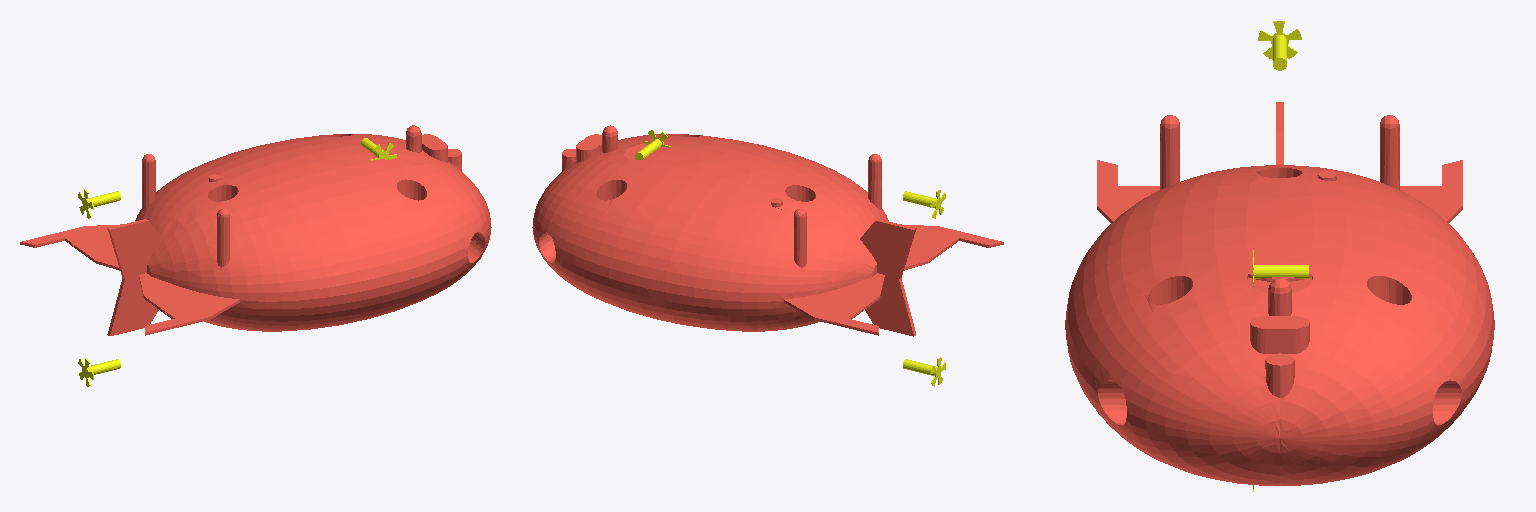
The robot description file, URDF, robot "auv_model":
<?xml version="1.0" encoding="utf-8"?>
<!-- This URDF was automatically created by SolidWorks to URDF Exporter! Originally created by [author] ([email redacted]) 
     Commit Version: 1.6.0-1-g15f4949  Build Version: 1.6.7594.29634
     For more information, please see http://wiki.ros.org/sw_urdf_exporter -->
<robot
  name="auv_model">
  <link
    name="base_link">
    <inertial>
      <origin
        xyz="0.066455 4.5644E-06 0.0008838"
        rpy="0 0 0" />
      <mass
        value="580.87" />
      <inertia
        ixx="53.088"
        ixy="0.0009714"
        ixz="-0.020046"
        iyy="81.713"
        iyz="-0.0006525"
        izz="111.33" />
    </inertial>
    <visual>
      <origin
        xyz="0 0 0"
        rpy="0 0 0" />
      <geometry>
        <mesh
          filename="package://auv_model/meshes/base_link.STL" />
      </geometry>
      <material
        name="">
        <color
          rgba="1 0.42745 0.37255 1" />
      </material>
    </visual>
    <collision>
      <origin
        xyz="0 0 0"
        rpy="0 0 0" />
      <geometry>
        <mesh
          filename="package://auv_model/meshes/base_link.STL" />
      </geometry>
    </collision>
  </link>
  <link
    name="link1">
    <inertial>
      <origin
        xyz="0 -5.55111512312578E-17 0.00582005576577271"
        rpy="0 0 0" />
      <mass
        value="0.219082454356588" />
      <inertia
        ixx="0.000553877896632537"
        ixy="2.48186495508586E-20"
        ixz="-2.28870535735766E-19"
        iyy="0.000553877896632537"
        iyz="-2.06795153138257E-20"
        izz="8.46424691524212E-05" />
    </inertial>
    <visual>
      <origin
        xyz="0 0 0"
        rpy="0 0 0" />
      <geometry>
        <mesh
          filename="package://auv_model/meshes/link1.STL" />
      </geometry>
      <material
        name="">
        <color
          rgba="0.972549019607843 1 0.152941176470588 1" />
      </material>
    </visual>
    <collision>
      <origin
        xyz="0 0 0"
        rpy="0 0 0" />
      <geometry>
        <mesh
          filename="package://auv_model/meshes/link1.STL" />
      </geometry>
    </collision>
  </link>
  <joint
    name="1#thruster"
    type="continuous">
    <origin
      xyz="0.38014 0 -0.299"
      rpy="1.5708 0 0" />
    <parent
      link="base_link" />
    <child
      link="link1" />
    <axis
      xyz="0 0 1" />
    <limit
      lower="0"
      upper="6.28"
      effort="0"
      velocity="0" />
  </joint>
  <link
    name="link2">
    <inertial>
      <origin
        xyz="-5.55111512312578E-17 0 0.0058200557657727"
        rpy="0 0 0" />
      <mass
        value="0.219082454356588" />
      <inertia
        ixx="0.000553877896632537"
        ixy="3.90293539805782E-20"
        ixz="-2.0105658763867E-19"
        iyy="0.000553877896632537"
        iyz="-5.29395592033938E-20"
        izz="8.46424691524212E-05" />
    </inertial>
    <visual>
      <origin
        xyz="0 0 0"
        rpy="0 0 0" />
      <geometry>
        <mesh
          filename="package://auv_model/meshes/link2.STL" />
      </geometry>
      <material
        name="">
        <color
          rgba="0.972549019607843 1 0.152941176470588 1" />
      </material>
    </visual>
    <collision>
      <origin
        xyz="0 0 0"
        rpy="0 0 0" />
      <geometry>
        <mesh
          filename="package://auv_model/meshes/link2.STL" />
      </geometry>
    </collision>
  </link>
  <joint
    name="2#thruster"
    type="continuous">
    <origin
      xyz="0.38014 0 0.299"
      rpy="1.5708 0 0" />
    <parent
      link="base_link" />
    <child
      link="link2" />
    <axis
      xyz="0 0 1" />
    <limit
      lower="0"
      upper="6.28"
      effort="0"
      velocity="0" />
  </joint>
  <link
    name="link3">
    <inertial>
      <origin
        xyz="6.1523008909603E-13 -2.62841137743663E-12 0.00582005576576341"
        rpy="0 0 0" />
      <mass
        value="0.219082454356588" />
      <inertia
        ixx="0.000553877896632537"
        ixy="-5.42101086242752E-20"
        ixz="-1.96942075992639E-19"
        iyy="0.000553877896632536"
        iyz="4.10774357144031E-20"
        izz="8.4642469152421E-05" />
    </inertial>
    <visual>
      <origin
        xyz="0 0 0"
        rpy="0 0 0" />
      <geometry>
        <mesh
          filename="package://auv_model/meshes/link3.STL" />
      </geometry>
      <material
        name="">
        <color
          rgba="0.972549019607843 1 0.152941176470588 1" />
      </material>
    </visual>
    <collision>
      <origin
        xyz="0 0 0"
        rpy="0 0 0" />
      <geometry>
        <mesh
          filename="package://auv_model/meshes/link3.STL" />
      </geometry>
    </collision>
  </link>
  <joint
    name="3#thruster"
    type="continuous">
    <origin
      xyz="-0.32186 0 0"
      rpy="1.5708 0.22997 0" />
    <parent
      link="base_link" />
    <child
      link="link3" />
    <axis
      xyz="0 0 1" />
    <limit
      lower="0"
      upper="6.28"
      effort="0"
      velocity="0" />
  </joint>
  <link
    name="link4">
    <inertial>
      <origin
        xyz="-1.99840144432528E-15 1.96370697480575E-15 0.000820055765243202"
        rpy="0 0 0" />
      <mass
        value="0.219082454356588" />
      <inertia
        ixx="0.000553877896632537"
        ixy="1.21972744404619E-19"
        ixz="1.10905631225746E-15"
        iyy="0.000553877896632537"
        iyz="-1.00842756476344E-16"
        izz="8.46424691524214E-05" />
    </inertial>
    <visual>
      <origin
        xyz="0 0 0"
        rpy="0 0 0" />
      <geometry>
        <mesh
          filename="package://auv_model/meshes/link4.STL" />
      </geometry>
      <material
        name="">
        <color
          rgba="0.972549019607843 1 0.152941176470588 1" />
      </material>
    </visual>
    <collision>
      <origin
        xyz="0 0 0"
        rpy="0 0 0" />
      <geometry>
        <mesh
          filename="package://auv_model/meshes/link4.STL" />
      </geometry>
    </collision>
  </link>
  <joint
    name="4#thruster"
    type="continuous">
    <origin
      xyz="0.58765 0 0"
      rpy="0 0 0.090567" />
    <parent
      link="base_link" />
    <child
      link="link4" />
    <axis
      xyz="0 0 1" />
    <limit
      lower="0"
      upper="6.28"
      effort="0"
      velocity="0" />
  </joint>
  <link
    name="link5">
    <inertial>
      <origin
        xyz="3.33066907387547E-16 -1.85296222809939E-13 0.0858200557661546"
        rpy="0 0 0" />
      <mass
        value="0.219082454356588" />
      <inertia
        ixx="0.000553877896632534"
        ixy="0"
        ixz="-1.9879085977734E-18"
        iyy="0.000553877896632534"
        iyz="1.01373530375499E-15"
        izz="8.46424691524206E-05" />
    </inertial>
    <visual>
      <origin
        xyz="0 0 0"
        rpy="0 0 0" />
      <geometry>
        <mesh
          filename="package://auv_model/meshes/link5.STL" />
      </geometry>
      <material
        name="">
        <color
          rgba="0.972549019607843 1 0.152941176470588 1" />
      </material>
    </visual>
    <collision>
      <origin
        xyz="0 0 0"
        rpy="0 0 0" />
      <geometry>
        <mesh
          filename="package://auv_model/meshes/link5.STL" />
      </geometry>
    </collision>
  </link>
  <joint
    name="5#thruster"
    type="continuous">
    <origin
      xyz="-0.80686 0 -0.372"
      rpy="1.5708 -0.42763 -1.5708" />
    <parent
      link="base_link" />
    <child
      link="link5" />
    <axis
      xyz="0 0 1" />
    <limit
      lower="0"
      upper="6.28"
      effort="0"
      velocity="0" />
  </joint>
  <link
    name="link6">
    <inertial>
      <origin
        xyz="-3.33066907387547E-16 -1.65756297576536E-13 0.0858200557661754"
        rpy="0 0 0" />
      <mass
        value="0.219082454356588" />
      <inertia
        ixx="0.000553877896632537"
        ixy="0"
        ixz="1.59251838442207E-18"
        iyy="0.000553877896632536"
        iyz="9.06346601104337E-16"
        izz="8.46424691524205E-05" />
    </inertial>
    <visual>
      <origin
        xyz="0 0 0"
        rpy="0 0 0" />
      <geometry>
        <mesh
          filename="package://auv_model/meshes/link6.STL" />
      </geometry>
      <material
        name="">
        <color
          rgba="0.972549019607843 1 0.152941176470588 1" />
      </material>
    </visual>
    <collision>
      <origin
        xyz="0 0 0"
        rpy="0 0 0" />
      <geometry>
        <mesh
          filename="package://auv_model/meshes/link6.STL" />
      </geometry>
    </collision>
  </link>
  <joint
    name="6#thruster"
    type="continuous">
    <origin
      xyz="-0.80686 0 0.372"
      rpy="1.5708 -0.62074 -1.5708" />
    <parent
      link="base_link" />
    <child
      link="link6" />
    <axis
      xyz="0 0 1" />
    <limit
      lower="0"
      upper="6.28"
      effort="0"
      velocity="0" />
  </joint>
  <link
    name="link_sonar">
    <inertial>
      <origin
        xyz="0.142282918239957 8.5727986835149E-05 0.207904431552362"
        rpy="0 0 0" />
      <mass
        value="0.0502654824574367" />
      <inertia
        ixx="2.05250720034533E-05"
        ixy="0"
        ixz="1.83670992315982E-38"
        iyy="2.05250720034533E-05"
        iyz="-1.94272883206887E-38"
        izz="4.02123859659494E-05" />
    </inertial>
    <visual>
      <origin
        xyz="0 0 0"
        rpy="0 0 0" />
      <geometry>
        <mesh
          filename="package://auv_model/meshes/link_sonar.STL" />
      </geometry>
      <material
        name="">
        <color
          rgba="1 1 1 1" />
      </material>
    </visual>
    <collision>
      <origin
        xyz="0 0 0"
        rpy="0 0 0" />
      <geometry>
        <mesh
          filename="package://auv_model/meshes/link_sonar.STL" />
      </geometry>
    </collision>
  </link>
  <joint
    name="sonar_frame"
    type="fixed">
    <origin
      xyz="0.59761 0.00090443 0"
      rpy="1.5708 0 0" />
    <parent
      link="base_link" />
    <child
      link="link_sonar" />
    <axis
      xyz="0 0 0" />
    <limit
      lower="0"
      upper="0"
      effort="0"
      velocity="0" />
  </joint>
  <link
    name="link_altitude">
    <inertial>
      <origin
        xyz="0 0 0.005"
        rpy="0 0 0" />
      <mass
        value="0.0196349540849362" />
      <inertia
        ixx="3.23158619314575E-06"
        ixy="0"
        ixz="6.44898432852067E-39"
        iyy="3.23158619314575E-06"
        iyz="-4.74299031266813E-39"
        izz="6.13592315154257E-06" />
    </inertial>
    <visual>
      <origin
        xyz="0 0 0"
        rpy="0 0 0" />
      <geometry>
        <mesh
          filename="package://auv_model/meshes/link_altitude.STL" />
      </geometry>
      <material
        name="">
        <color
          rgba="1 1 1 1" />
      </material>
    </visual>
    <collision>
      <origin
        xyz="0 0 0"
        rpy="0 0 0" />
      <geometry>
        <mesh
          filename="package://auv_model/meshes/link_altitude.STL" />
      </geometry>
    </collision>
  </link>
  <joint
    name="altitude_frame"
    type="fixed">
    <origin
      xyz="-0.28636 -0.28231 0.13009"
      rpy="1.5708 0 0" />
    <parent
      link="base_link" />
    <child
      link="link_altitude" />
    <axis
      xyz="0 0 0" />
  </joint>
  <link
    name="link_dvl">
    <inertial>
      <origin
        xyz="0 0 0"
        rpy="0 0 0" />
      <mass
        value="0" />
      <inertia
        ixx="0"
        ixy="0"
        ixz="0"
        iyy="0"
        iyz="0"
        izz="0" />
    </inertial>
    <visual>
      <origin
        xyz="0 0 0"
        rpy="0 0 0" />
      <geometry>
        <mesh
          filename="package://auv_model/meshes/link_dvl.STL" />
      </geometry>
      <material
        name="">
        <color
          rgba="1 1 1 1" />
      </material>
    </visual>
    <collision>
      <origin
        xyz="0 0 0"
        rpy="0 0 0" />
      <geometry>
        <mesh
          filename="package://auv_model/meshes/link_dvl.STL" />
      </geometry>
    </collision>
  </link>
  <joint
    name="dvl_frame"
    type="fixed">
    <origin
      xyz="0.39314 -0.28 0"
      rpy="1.5708 0 0" />
    <parent
      link="base_link" />
    <child
      link="link_dvl" />
    <axis
      xyz="0 0 0" />
  </joint>
</robot>

--- What the picture shows (computed from the rendered views, not written in the file) ---
The picture shows the robot from 3 angles, left to right: view 1: azimuth 30°, elevation 25°; view 2: azimuth 150°, elevation 25°; view 3: azimuth 270°, elevation 25°; orthographic projection.
Model auv_model with 10 links and 9 joints (6 continuous, 3 fixed), rooted at base_link, posed all joints at 0.
Visible links, largest first — view 1: base_link, link5, link6; view 2: base_link, link5; view 3: base_link, link6, link2.
Boxes of the visible links, box(x1,y1,x2,y2) form: base_link: box(20, 125, 491, 335); link5: box(78, 358, 120, 386); link6: box(78, 189, 120, 218); base_link: box(532, 125, 1003, 336); link5: box(903, 357, 945, 386); base_link: box(1065, 102, 1494, 485); link6: box(1258, 21, 1301, 70); link2: box(1253, 250, 1308, 286).
Bounding box of the posed robot: 1.79 × 1.17 × 0.8635 m (x, y, z).
10 mesh visuals loaded from 10 distinct referenced files (10 binary STL).